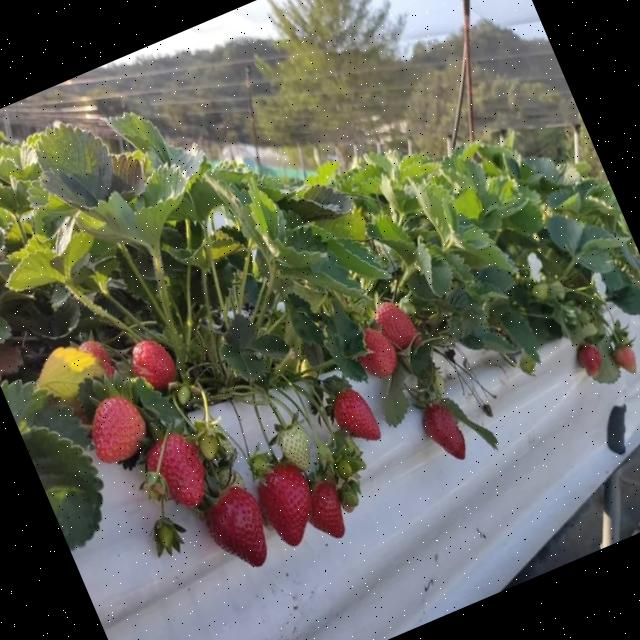Ripe Strawberry: (196, 482, 280, 582), (250, 456, 328, 552), (139, 430, 215, 516), (80, 389, 155, 466), (326, 382, 384, 451), (417, 399, 472, 467), (125, 330, 182, 394), (370, 296, 424, 360), (302, 478, 354, 544), (350, 322, 402, 382), (73, 334, 116, 386), (575, 339, 603, 376)
